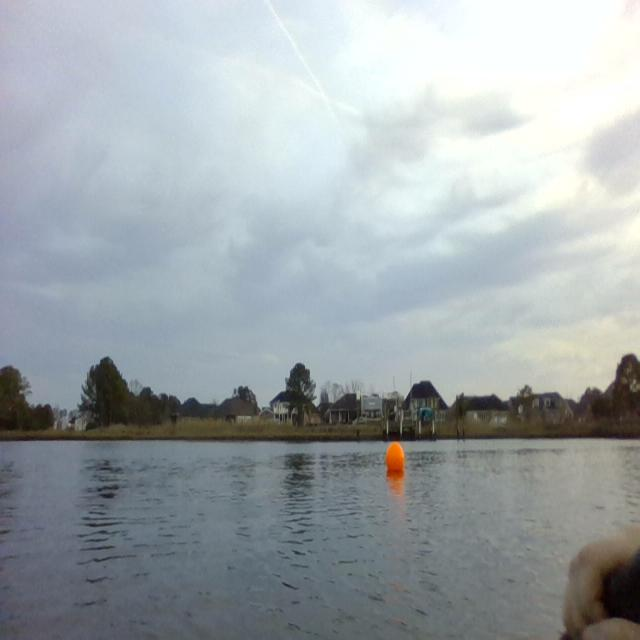Buoy: (384, 440, 406, 477)
